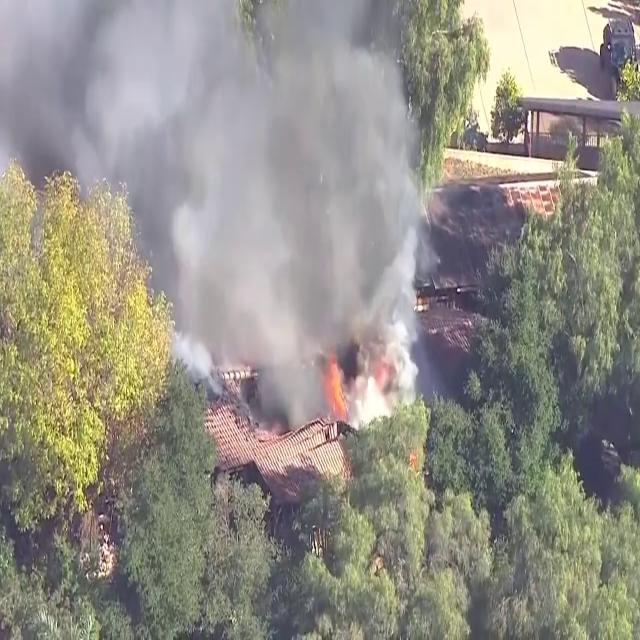Fire: (325, 356, 353, 420)
Smoke: (10, 0, 438, 418)
